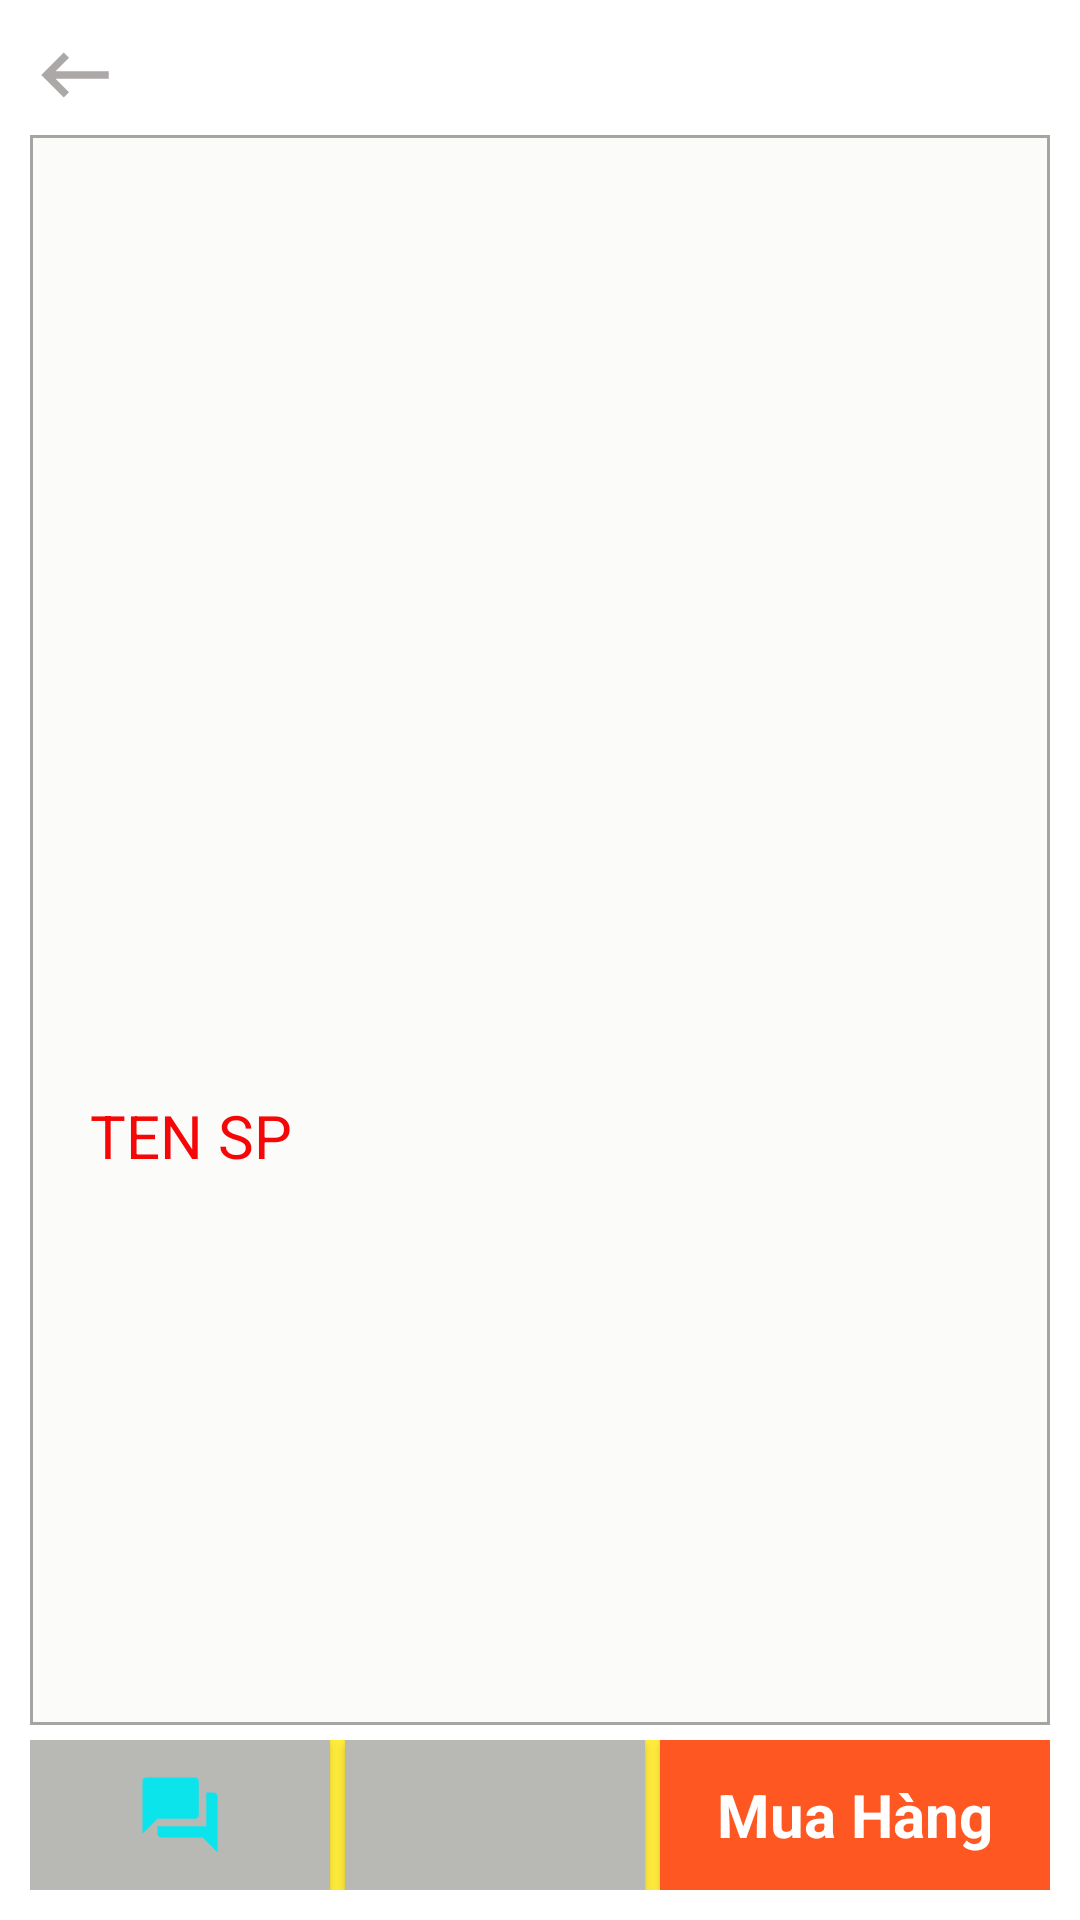

Named icons in this screenshot (1080 × 1920) and their centers, (x=x, y=y):
binhluan: (x=180, y=1814)
quaylai: (x=75, y=75)
